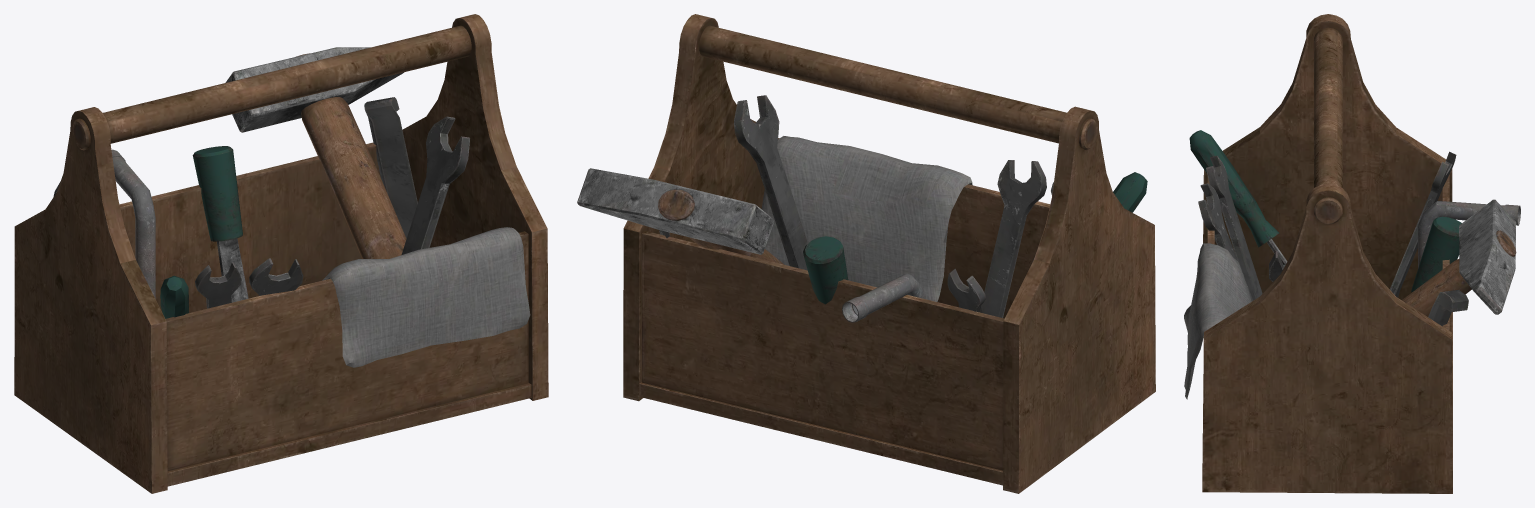
File: toolbox-opt.glb
The picture shows the model from 3 angles, left to right: view 1: azimuth 30°, elevation 25°; view 2: azimuth 150°, elevation 25°; view 3: azimuth 270°, elevation 25°; orthographic projection. The views are drawn at different scales.
Parts seen in each view (by area): view 1: inst_Material.002_0, inst_Material.001_0; view 2: inst_Material.002_0, inst_Material.001_0; view 3: inst_Material.002_0, inst_Material.001_0.
Part boxes in pixels (left/top/right/bottom): inst_Material.002_0: left=14, top=14, right=548, bottom=493; inst_Material.001_0: left=53, top=47, right=530, bottom=367; inst_Material.002_0: left=623, top=14, right=1155, bottom=493; inst_Material.001_0: left=577, top=95, right=1147, bottom=322; inst_Material.002_0: left=1202, top=14, right=1452, bottom=493; inst_Material.001_0: left=1184, top=130, right=1520, bottom=399.
Bounding box in the file's own units: 0.2667 × 0.2017 × 0.2029.
2 materials, 2 textured.
